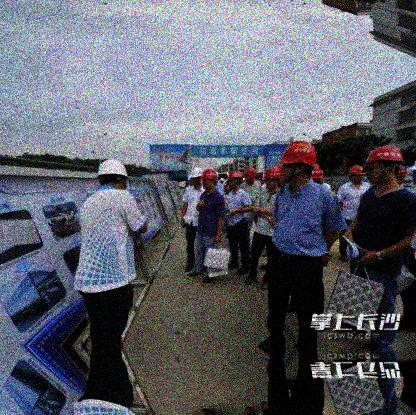helmet: (277, 141, 319, 186), (364, 143, 404, 184), (96, 160, 130, 190), (263, 167, 282, 192), (346, 164, 365, 185), (186, 167, 203, 188), (203, 169, 219, 189), (228, 170, 243, 190)
